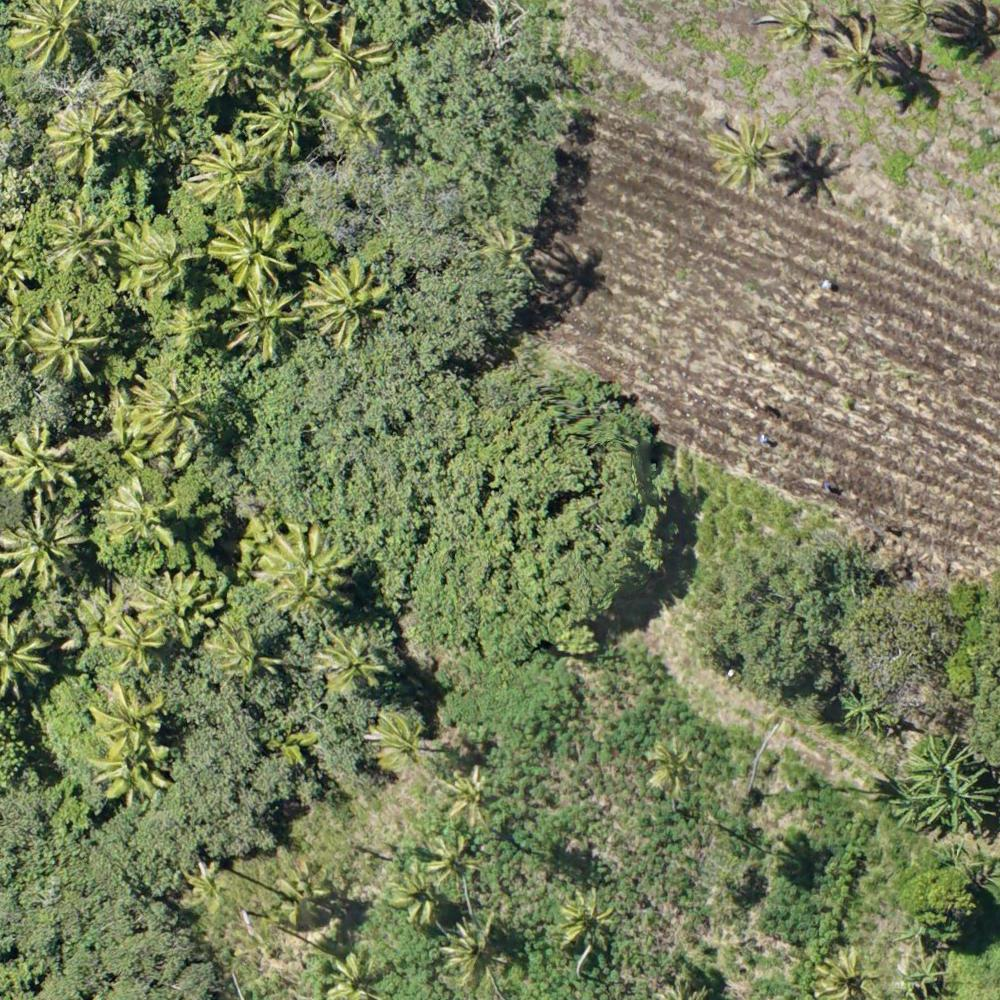Palm: (252, 529, 356, 622), (4, 499, 87, 588), (212, 212, 304, 288), (307, 261, 388, 343), (104, 479, 183, 563), (1, 416, 82, 496), (134, 567, 214, 648), (187, 132, 268, 211), (307, 21, 388, 99), (30, 300, 108, 381), (129, 375, 208, 452), (225, 285, 300, 361), (122, 223, 199, 296), (87, 742, 170, 806), (243, 89, 316, 160), (46, 104, 121, 173), (90, 685, 167, 751), (313, 630, 388, 697), (8, 1, 83, 66), (713, 119, 781, 190), (829, 18, 896, 90), (99, 614, 170, 678), (48, 205, 114, 272), (324, 92, 393, 155), (556, 884, 618, 950), (441, 768, 504, 829), (264, 1, 332, 57), (445, 923, 505, 986), (816, 945, 884, 1000), (361, 710, 425, 768), (214, 628, 281, 682), (641, 740, 700, 800), (765, 1, 828, 56), (424, 832, 481, 891), (388, 871, 447, 924), (323, 952, 381, 1000), (96, 63, 139, 108)
